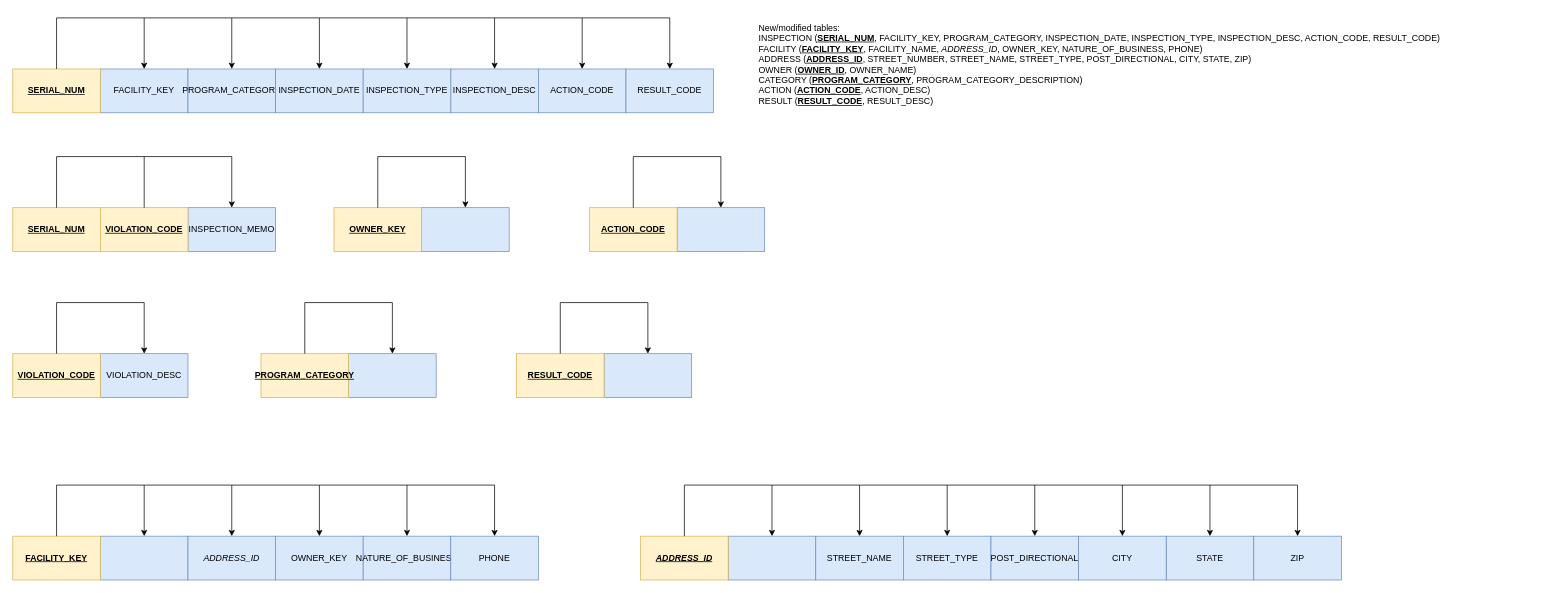
This 1559x593 diagram has some shape labels left out. Here are the shapes that lost their labels. From the top down, the box of each, then its label:
(421, 207, 509, 251): OWNER_NAME
(676, 207, 765, 251): ACTION_DESC
(348, 353, 436, 397): PROGRAM_CATEGORY_DESCRIPTION
(603, 353, 692, 397): RESULT_DESC
(100, 535, 188, 580): FACILITY_NAME
(727, 535, 816, 580): STREET_NUMBER
